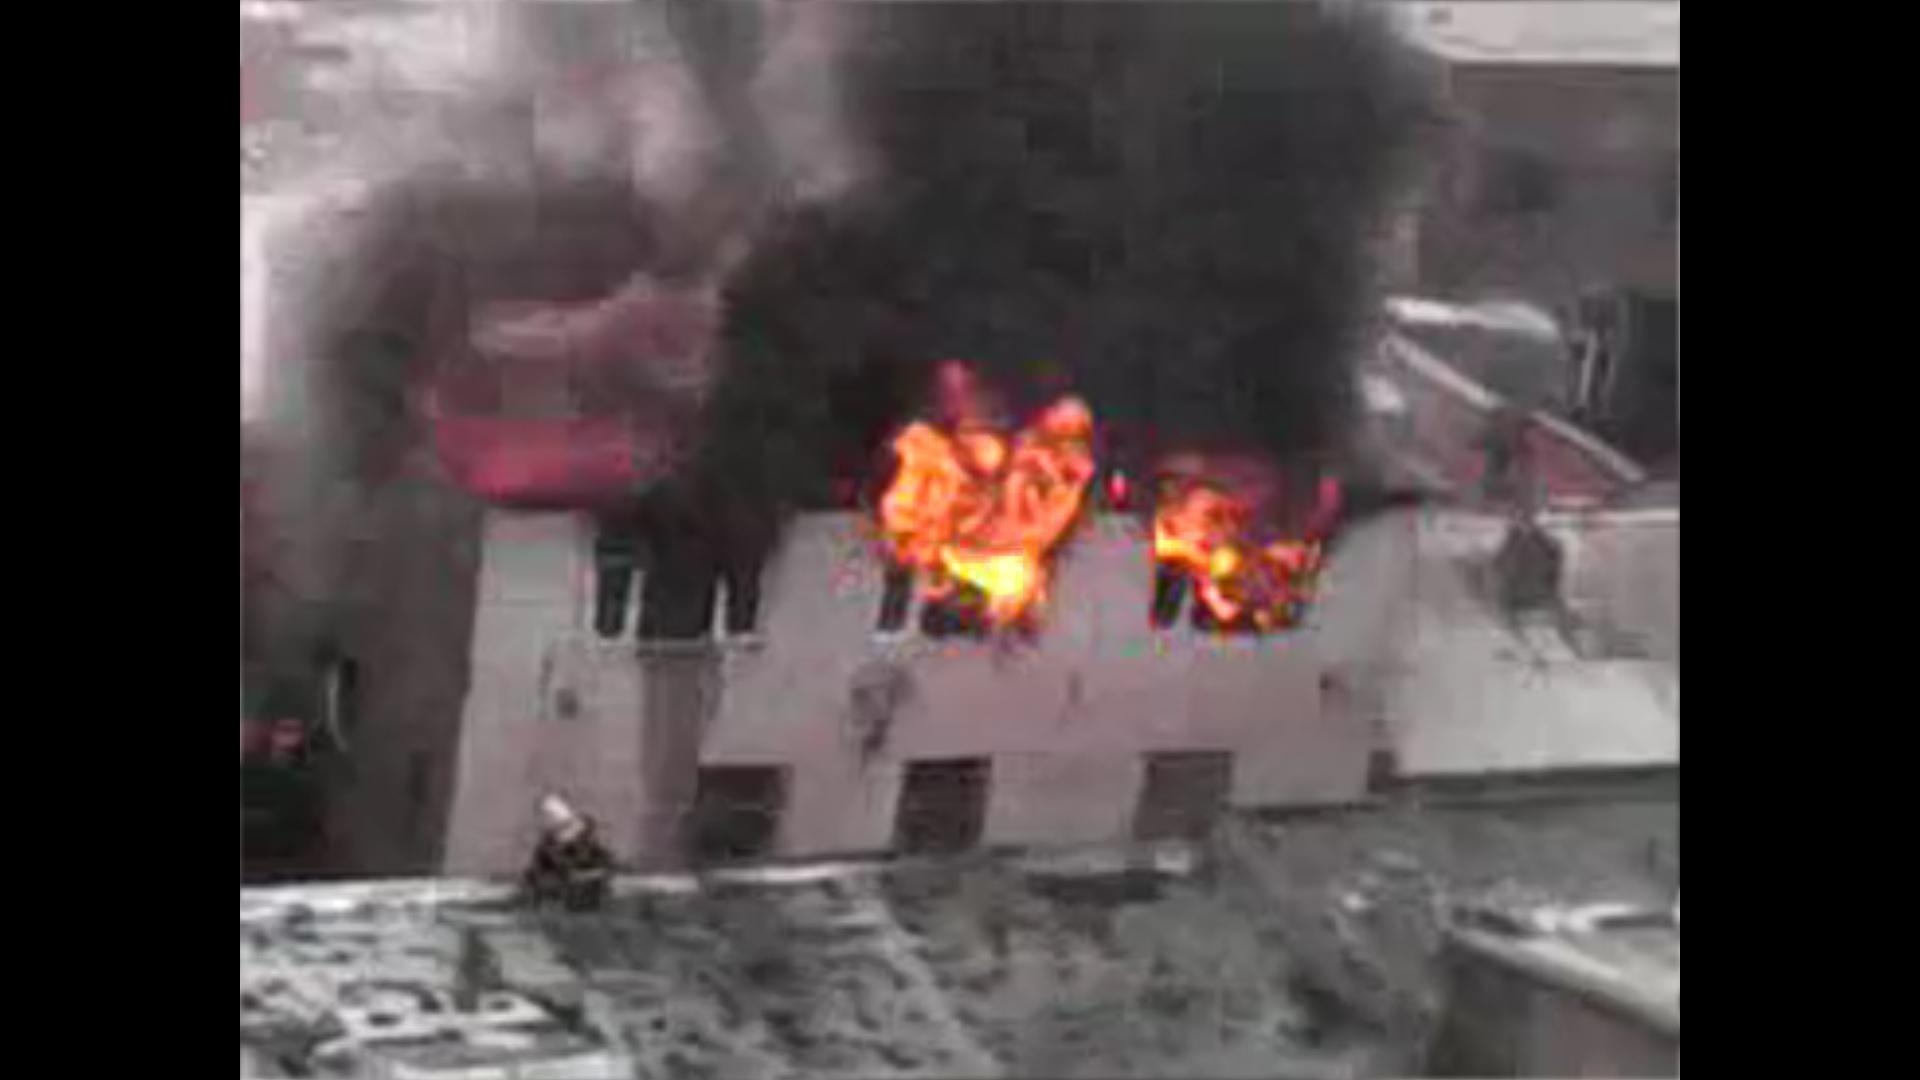fire: (873, 382, 1095, 618), (1141, 455, 1342, 624)
